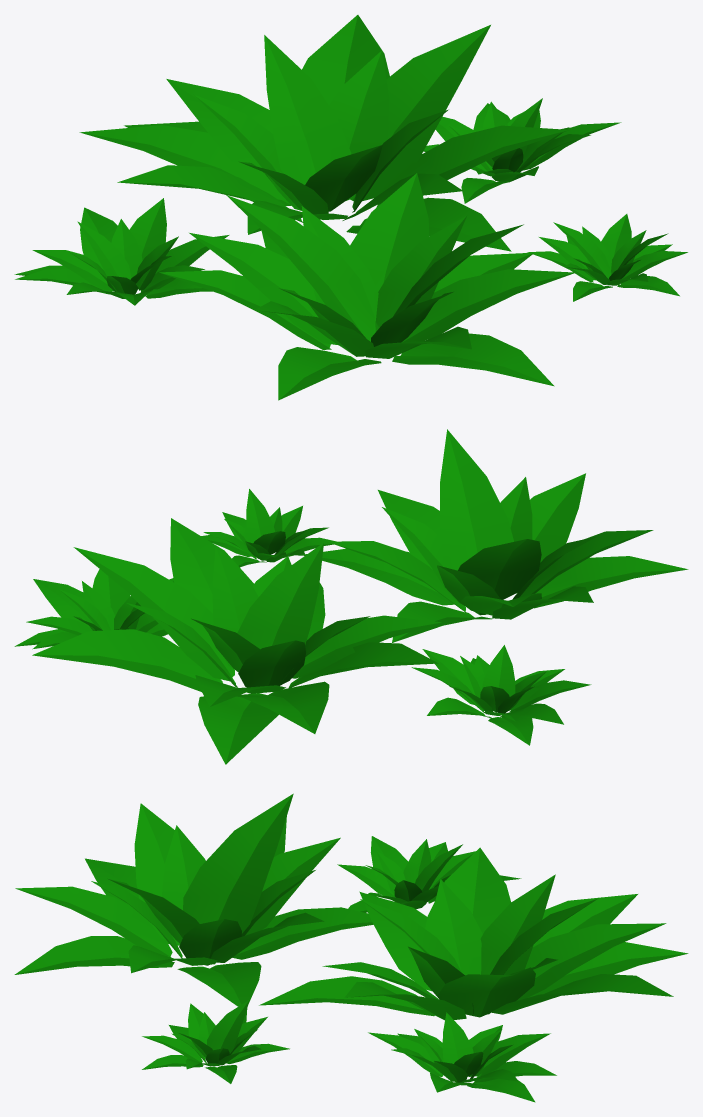
Rendered from SM_Bush_002.fbx.
3 renders of one model, top to bottom at view 1: azimuth 30°, elevation 25°; view 2: azimuth 150°, elevation 25°; view 3: azimuth 270°, elevation 25°, orthographic. The views are drawn at different scales.
Visible parts, largest first — view 1: Bush_02; view 2: Bush_02; view 3: Bush_02.
Part boxes in pixels (box(x1,y1,x2,y2)): Bush_02: box(14, 15, 687, 400); Bush_02: box(14, 429, 688, 764); Bush_02: box(14, 793, 688, 1102).
Bounding box in the file's own units: 719 × 161 × 780.
